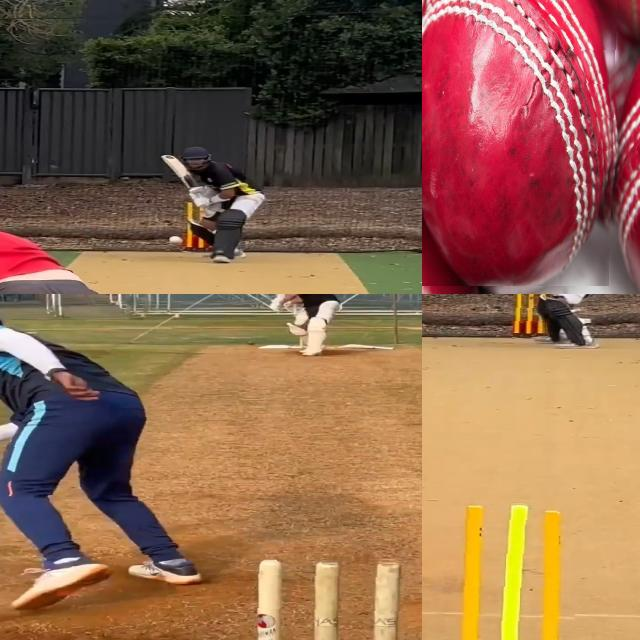Cricket ball: (422, 0, 618, 285), (167, 235, 184, 245), (247, 341, 255, 346)
Stumps: (444, 501, 577, 640), (254, 557, 404, 640), (513, 294, 549, 338)
